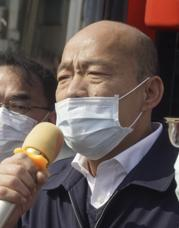Wore Mask Incorrectly: (56, 20, 164, 162)
